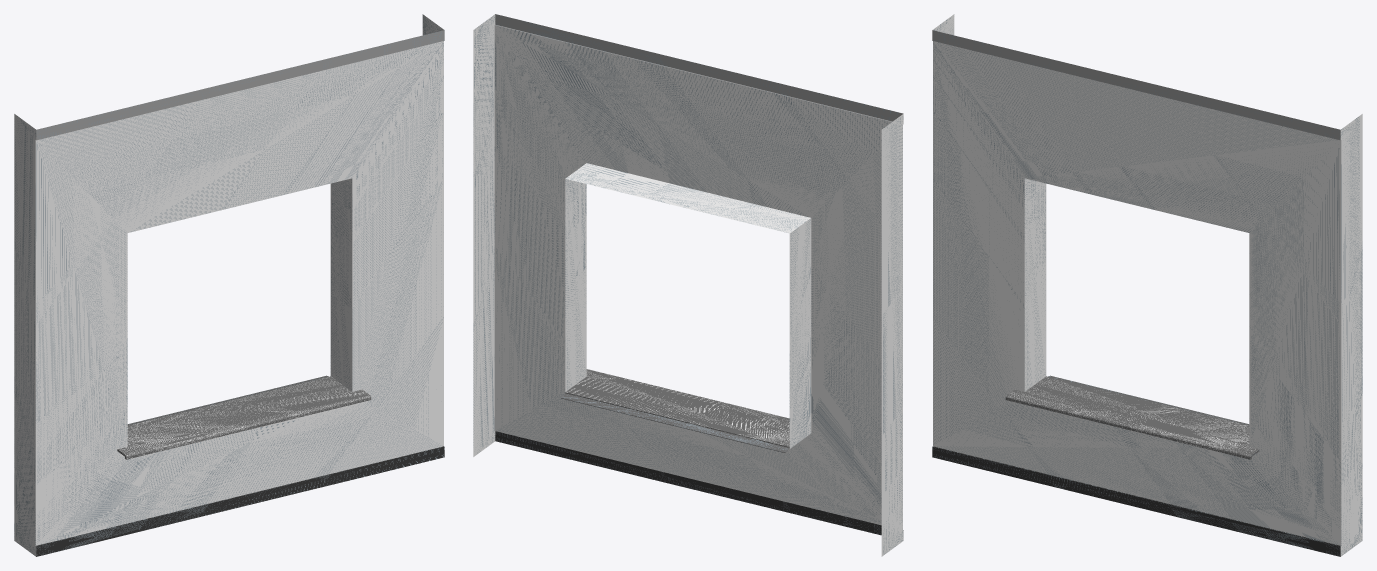
The model's file is WindowBlock_os_plinth_[400x400]_220x200x[080].dae.
The picture shows the model from 3 angles, left to right: view 1: azimuth 30°, elevation 25°; view 2: azimuth 150°, elevation 25°; view 3: azimuth 330°, elevation 25°; orthographic projection.
Visible parts, largest first — view 1: group_2 (×4), group_1; view 2: group_2 (×4), group_1 (×2); view 3: group_2 (×4), group_1.
Boxes of the visible parts, left/top/right/bottom form: group_2 (×4): left=14, top=14, right=444, bottom=556; group_1: left=117, top=376, right=371, bottom=459; group_2 (×4): left=473, top=14, right=903, bottom=556; group_1 (×2): left=561, top=369, right=789, bottom=452; group_2 (×4): left=932, top=14, right=1362, bottom=556; group_1: left=1005, top=376, right=1258, bottom=459.
Size of the model in its own units: 157 by 23.03 by 157.
